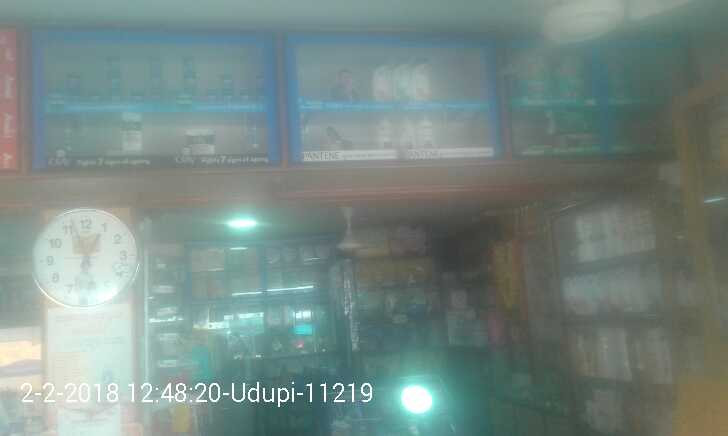beauty: (509, 44, 549, 98), (555, 50, 590, 97), (181, 126, 219, 159), (410, 52, 432, 103), (553, 107, 598, 130), (120, 112, 145, 151), (371, 60, 392, 104), (392, 58, 411, 102), (395, 110, 414, 151), (414, 107, 433, 146), (377, 109, 393, 149)
pharmacy: (62, 68, 84, 96), (178, 53, 200, 78), (104, 52, 122, 80), (107, 78, 124, 103), (200, 87, 219, 104), (237, 85, 251, 105), (128, 88, 145, 104), (217, 73, 232, 89), (222, 89, 234, 103)
